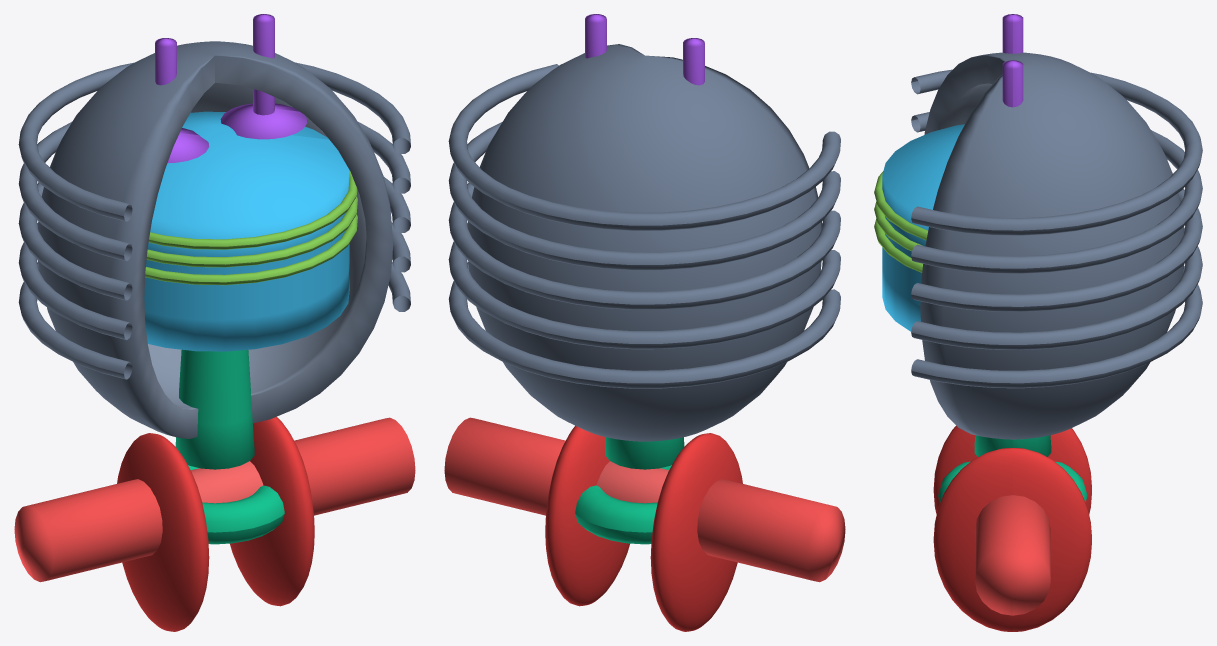
Rendered from 07_mechanical_piston_engine.glb.
The picture shows the model from 3 angles, left to right: view 1: azimuth 30°, elevation 25°; view 2: azimuth 150°, elevation 25°; view 3: azimuth 270°, elevation 25°; orthographic projection. The views are drawn at different scales.
Visible parts, largest first — view 1: Finned Cylinder Block & Bore Sleeve, Crankshaft Journals & Counterweights, Piston Crown & 3 Compression Rings, Forged I-Beam Connecting Rod, Dual Overhead Intake & Exhaust Valves; view 2: Finned Cylinder Block & Bore Sleeve, Crankshaft Journals & Counterweights, Forged I-Beam Connecting Rod, Dual Overhead Intake & Exhaust Valves; view 3: Finned Cylinder Block & Bore Sleeve, Crankshaft Journals & Counterweights, Piston Crown & 3 Compression Rings, Dual Overhead Intake & Exhaust Valves, Forged I-Beam Connecting Rod.
Part boxes in pixels (bbox=[...]): Finned Cylinder Block & Bore Sleeve: bbox=[18, 41, 410, 438]; Crankshaft Journals & Counterweights: bbox=[14, 417, 415, 631]; Piston Crown & 3 Compression Rings: bbox=[144, 111, 357, 351]; Forged I-Beam Connecting Rod: bbox=[175, 349, 284, 544]; Dual Overhead Intake & Exhaust Valves: bbox=[155, 14, 307, 163]; Finned Cylinder Block & Bore Sleeve: bbox=[448, 44, 840, 441]; Crankshaft Journals & Counterweights: bbox=[444, 417, 845, 631]; Forged I-Beam Connecting Rod: bbox=[575, 437, 684, 544]; Dual Overhead Intake & Exhaust Valves: bbox=[585, 14, 704, 85]; Finned Cylinder Block & Bore Sleeve: bbox=[911, 52, 1202, 439]; Crankshaft Journals & Counterweights: bbox=[933, 425, 1091, 631]; Piston Crown & 3 Compression Rings: bbox=[874, 124, 964, 331]; Dual Overhead Intake & Exhaust Valves: bbox=[1002, 14, 1023, 107]; Forged I-Beam Connecting Rod: bbox=[938, 435, 1087, 502].
Size of the model in its own units: 205 by 298 by 156.
